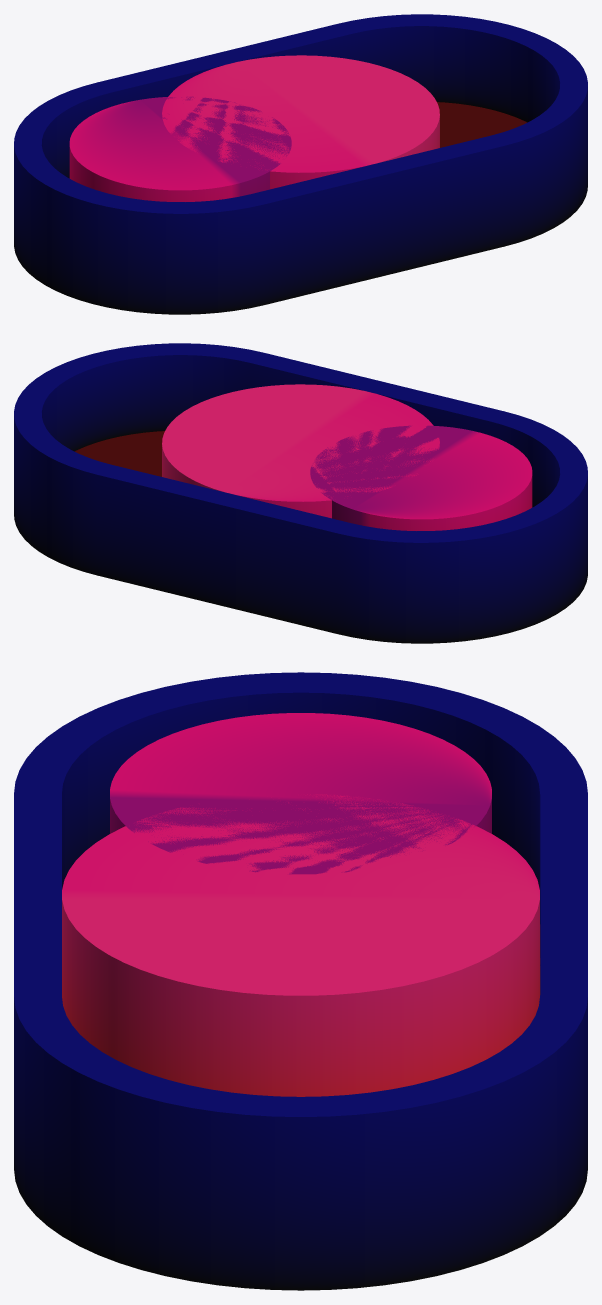
3 renders of one model, top to bottom at view 1: azimuth 30°, elevation 25°; view 2: azimuth 150°, elevation 25°; view 3: azimuth 270°, elevation 25°, orthographic. The views are drawn at different scales.
Parts seen in each view (by area): view 1: toggle, button; view 2: toggle, button; view 3: toggle, button.
Boxes of the visible parts, x1,y1,x2,y2 form: toggle: (14, 14, 587, 314); button: (162, 55, 439, 189); toggle: (14, 343, 587, 643); button: (162, 384, 439, 518); toggle: (14, 672, 587, 1290); button: (62, 794, 540, 1096).
Bounding box in the file's own units: 8.8 × 4.8 × 1.6.
